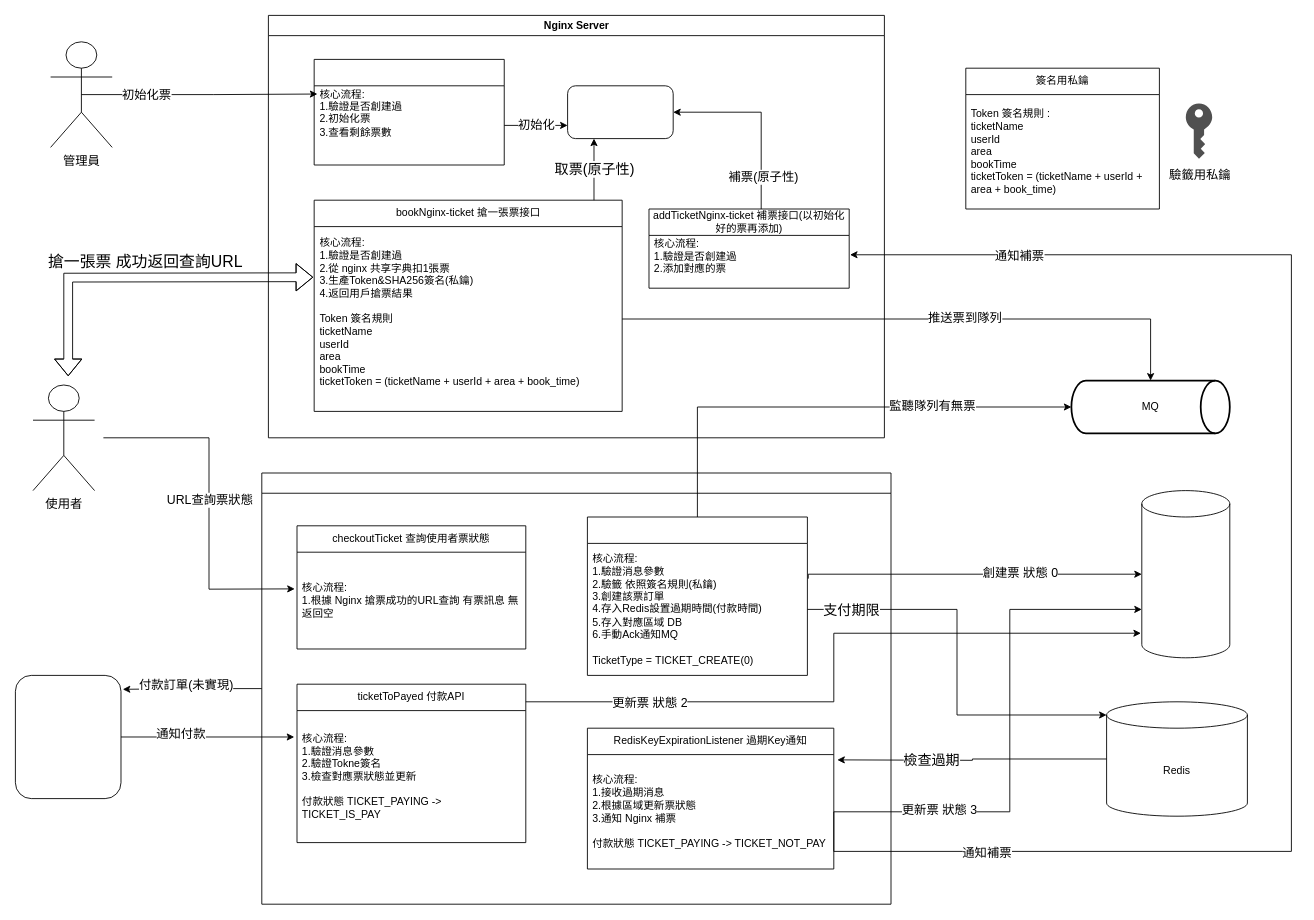
Some shapes in this 1314 by 920 pixel diagram are drawn without their labels. The shapes that lost their labels are listed below. From the top down, each one's box as (x1, y1, x2, y2) in pixels, then its label:
(313, 59, 504, 165): initNginx-ticket 初始化票數接口
(567, 85, 673, 139): 享內存字典(有原子性)
(1141, 490, 1230, 658): MYSQL
(587, 516, 807, 675): NginxQReceiver MQ消費者
(261, 472, 891, 904): JAVA Ticket Server
(15, 675, 121, 799): 三方付款服務
